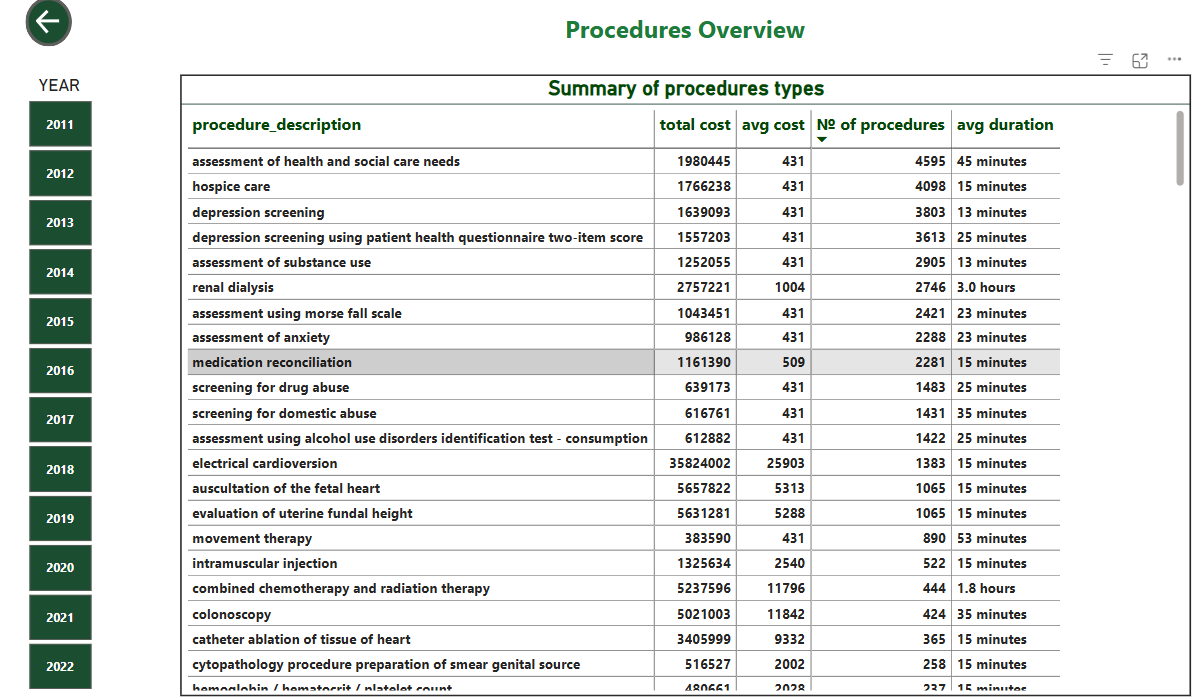

Layout of this report page (visuals, bound fields, positions):
{"tool":"powerbi","page":{"name":"Procedure Overview","canvas":[1280,720],"ordinal":4},"visuals":[{"type":"tableEx","title":"Summary of procedures types","fields":{"Values":["procedures.procedure_description","_measures (2).total procedures cost","_measures (2).avg procedure cost","_measures (2).number of procedures","_measures (2).procedure duration label"]},"box":[187.1,88,1005.2,618.5],"z":0},{"type":"slicer","title":"YEAR","fields":{"Values":["date_table.Year"]},"box":[9.8,88,111.7,618.5],"z":1000},{"type":"textbox","title":"Procedures Overview","box":[459.3,20.9,459.3,50.3],"z":2000},{"type":"actionButton","box":[32.1,11.2,46.1,48.9],"z":3000}]}

Visuals, with their boxes on the page's 1280x720 design canvas (x1, y1, x2, y2). These are canvas units, not pixel positions in the 1203x697 screenshot, which may show the page scaled, cropped or inside an application window:
"Summary of procedures types" tableEx: rect(187, 88, 1192, 706)
"YEAR" slicer: rect(10, 88, 122, 706)
"Procedures Overview" textbox: rect(459, 21, 919, 71)
actionButton: rect(32, 11, 78, 60)
